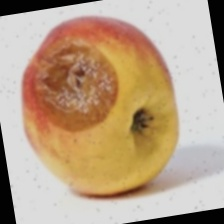apple: (21, 18, 162, 183)
